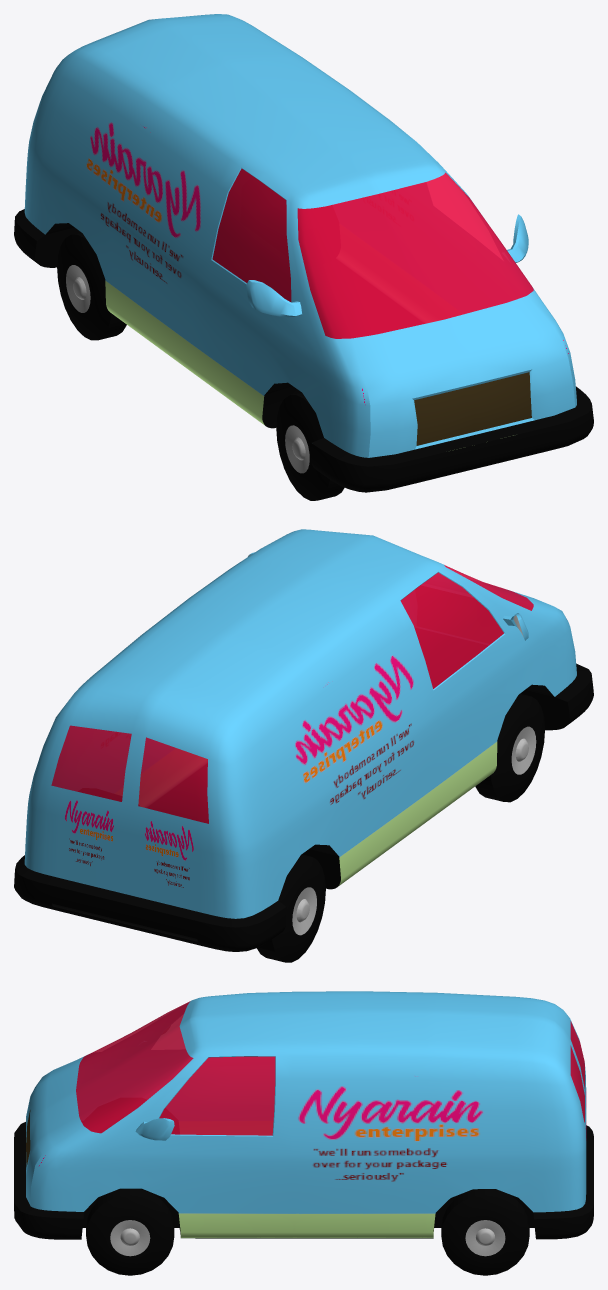
The model's file is Delivery Time Opponent Van.glb.
3 views of the same model, one above another, from view 1: azimuth 30°, elevation 25°; view 2: azimuth 150°, elevation 25°; view 3: azimuth 270°, elevation 25° (orthographic). The views are drawn at different scales.
Visible parts, largest first — view 1: BODY-RIGID, BACK.RIGHT-WHEEL, FRONT.RIGHT-WHEEL, MIRRORS; view 2: BODY-RIGID, FRONT.RIGHT-WHEEL, BACK.RIGHT-WHEEL; view 3: BODY-RIGID, FRONT.LEFT-WHEEL, BACK.LEFT-WHEEL, MIRRORS.
Part boxes in pixels (bbox=[...]): BODY-RIGID: bbox=[14, 14, 593, 492]; BACK.RIGHT-WHEEL: bbox=[57, 232, 126, 340]; FRONT.RIGHT-WHEEL: bbox=[276, 392, 344, 500]; MIRRORS: bbox=[246, 214, 528, 317]; BODY-RIGID: bbox=[14, 529, 593, 951]; FRONT.RIGHT-WHEEL: bbox=[475, 693, 544, 802]; BACK.RIGHT-WHEEL: bbox=[257, 854, 325, 962]; BODY-RIGID: bbox=[14, 991, 593, 1239]; FRONT.LEFT-WHEEL: bbox=[86, 1188, 174, 1275]; BACK.LEFT-WHEEL: bbox=[441, 1189, 529, 1275]; MIRRORS: bbox=[135, 1118, 174, 1140].
Size of the model in its own units: 2.22 by 2.11 by 4.99.
Materials: 7 (1 with a texture image).
